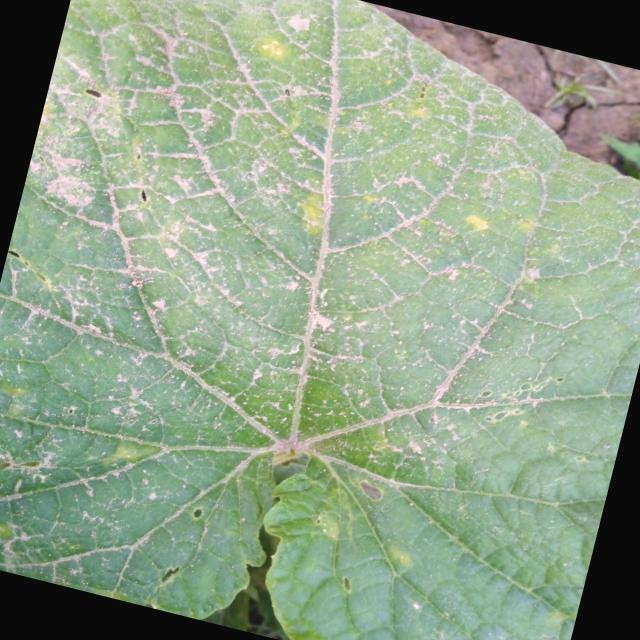cucumber_downy: (0, 0, 602, 607)
